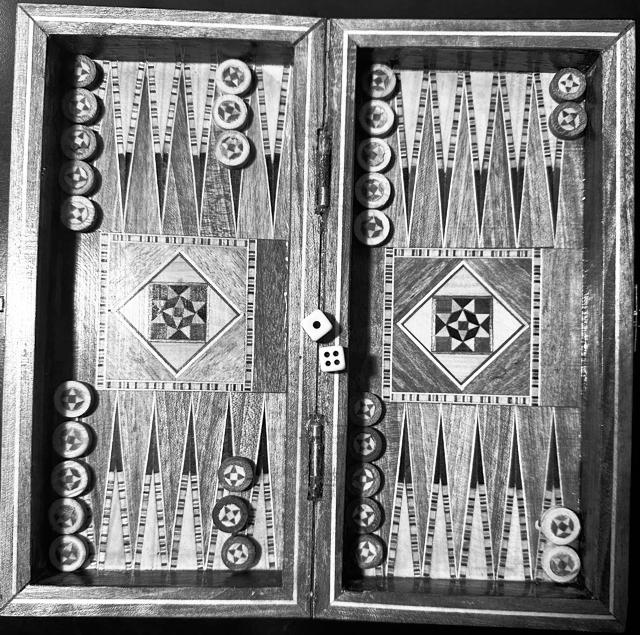bar: (286, 47, 349, 592)
board: (21, 26, 615, 609)
dark_p: (58, 45, 105, 89), (208, 493, 256, 535), (53, 194, 102, 235), (217, 532, 263, 575), (545, 98, 592, 140), (56, 121, 104, 161), (343, 528, 386, 572), (55, 84, 103, 123), (54, 160, 105, 196), (215, 451, 255, 495), (547, 65, 593, 103), (343, 495, 386, 535), (346, 388, 387, 429), (345, 425, 386, 466), (343, 461, 385, 500)
dice: (297, 305, 338, 346), (315, 343, 348, 375)
light_p: (538, 542, 585, 588), (44, 533, 92, 575), (537, 504, 583, 547), (43, 495, 93, 534), (52, 375, 95, 420), (50, 417, 94, 460), (350, 207, 395, 249), (208, 94, 255, 133), (212, 54, 255, 96), (212, 129, 255, 171), (357, 96, 400, 138), (50, 461, 95, 500), (356, 62, 403, 98), (355, 134, 395, 175), (352, 171, 397, 207)
